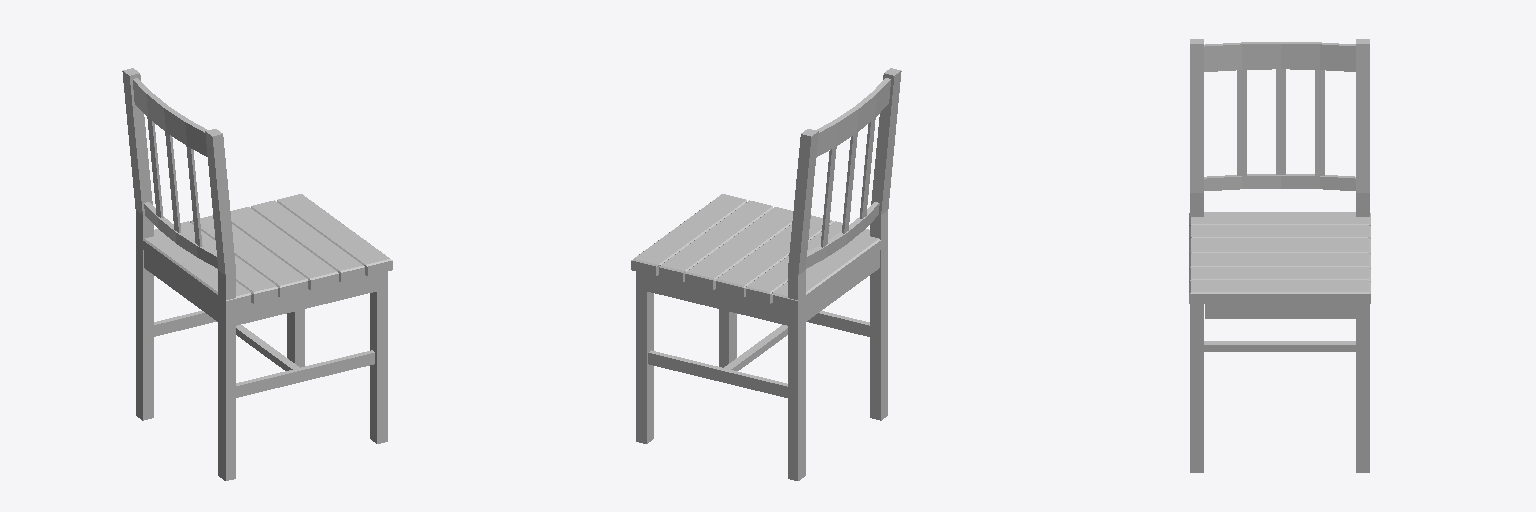
The model's file is newchair.obj.
3 views of the same model, side by side, from view 1: azimuth 30°, elevation 25°; view 2: azimuth 150°, elevation 25°; view 3: azimuth 270°, elevation 25° (orthographic).
Parts seen in each view (by area): view 1: study_chair; view 2: study_chair; view 3: study_chair.
Boxes of the visible parts, x1=… form: study_chair: x1=122, y1=68, x2=392, y2=480; study_chair: x1=631, y1=68, x2=901, y2=480; study_chair: x1=1189, y1=39, x2=1370, y2=472.
Bounding box in the file's own units: 0.4772 × 0.868 × 0.4095.